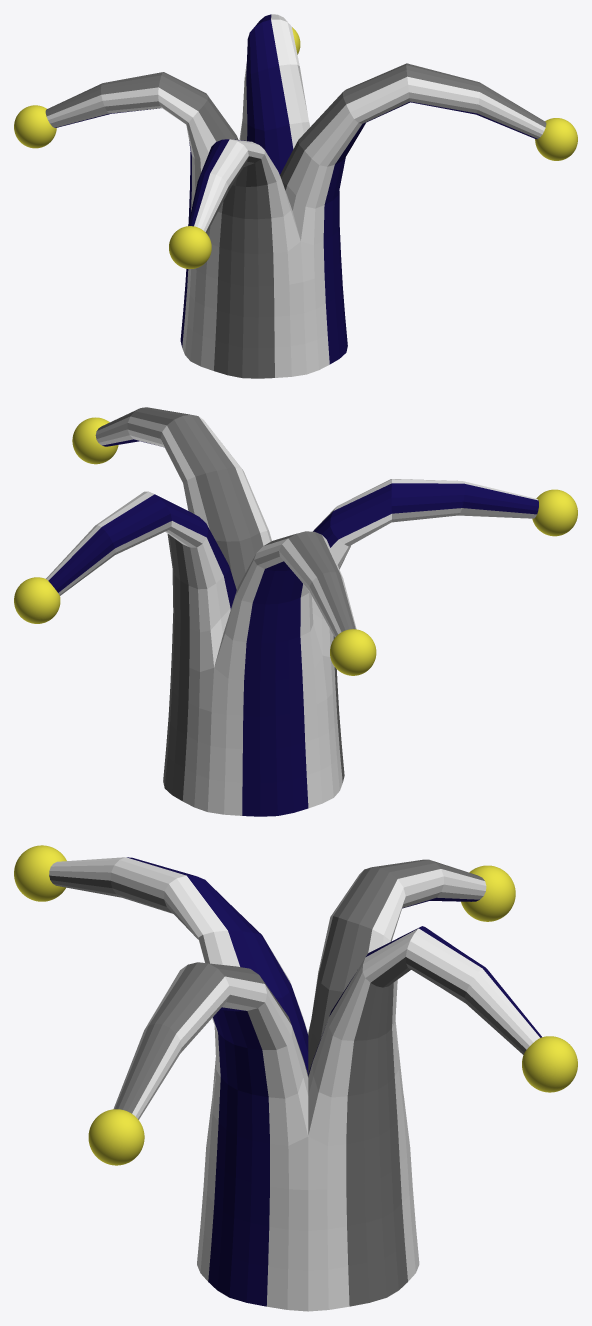
File: Jester_Hat.fbx
3 renders of one model, top to bottom at view 1: azimuth 30°, elevation 25°; view 2: azimuth 150°, elevation 25°; view 3: azimuth 270°, elevation 25°, orthographic. The views are drawn at different scales.
Parts seen in each view (by area): view 1: Cube.001, Sphere.003, Sphere.001, Sphere.002; view 2: Cube.001, Sphere.002, Sphere, Sphere.003, Sphere.001; view 3: Cube.001, Sphere.001, Sphere, Sphere.003, Sphere.002.
Part boxes in pixels (left/top/right/bottom): Cube.001: left=45, top=14, right=546, bottom=378; Sphere.003: left=169, top=226, right=211, bottom=268; Sphere.001: left=535, top=118, right=577, bottom=160; Sphere.002: left=14, top=105, right=56, bottom=148; Cube.001: left=46, top=407, right=538, bottom=816; Sphere.002: left=330, top=629, right=376, bottom=675; Sphere: left=14, top=577, right=60, bottom=623; Sphere.003: left=532, top=489, right=577, bottom=536; Sphere.001: left=72, top=417, right=118, bottom=464; Cube.001: left=49, top=857, right=541, bottom=1311; Sphere.001: left=88, top=1109, right=144, bottom=1165; Sphere: left=522, top=1036, right=577, bottom=1092; Sphere.003: left=14, top=845, right=66, bottom=901; Sphere.002: left=461, top=865, right=515, bottom=921.
Size of the model in its own units: 375 by 233 by 325.
